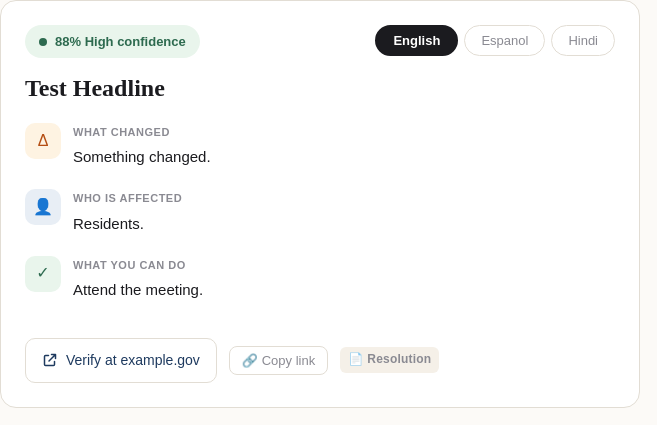
Test: CivicBrief — copy link button › shows "Copied!" feedback after clicking
Click the button "🔗 Copy link" at (279, 360), box [229,346,328,375]
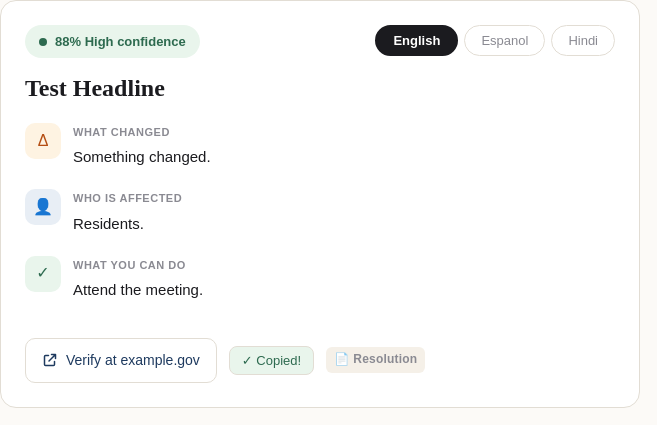
Expected: the button "✓ Copied!" is shown, [229,346,314,375]
